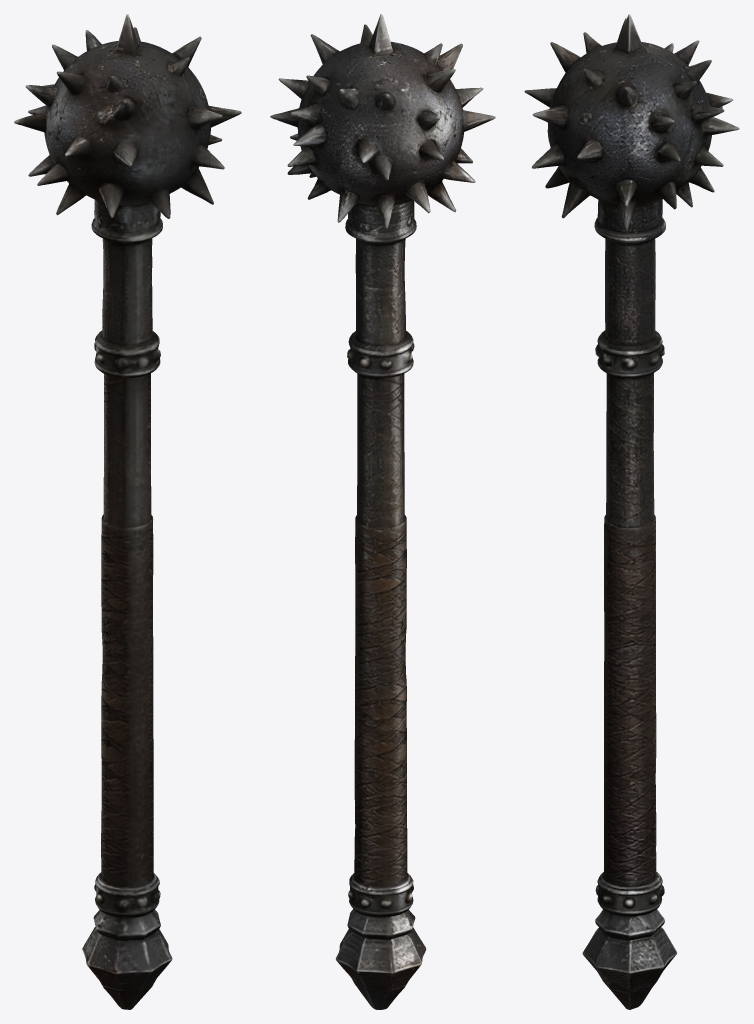
The model's file is great_morning_star.glb.
3 renders of one model, left to right at view 1: azimuth 30°, elevation 25°; view 2: azimuth 150°, elevation 25°; view 3: azimuth 270°, elevation 25°, orthographic.
Parts seen in each view (by area): view 1: great_morning_star; view 2: great_morning_star; view 3: great_morning_star.
Part boxes in pixels (x1=…): great_morning_star: x1=14, y1=14, x2=241, y2=1009; great_morning_star: x1=270, y1=14, x2=495, y2=1009; great_morning_star: x1=524, y1=14, x2=739, y2=1009.
Size of the model in its own units: 0.2626 by 1.35 by 0.2644.
Materials: 1 (1 with a texture image).
